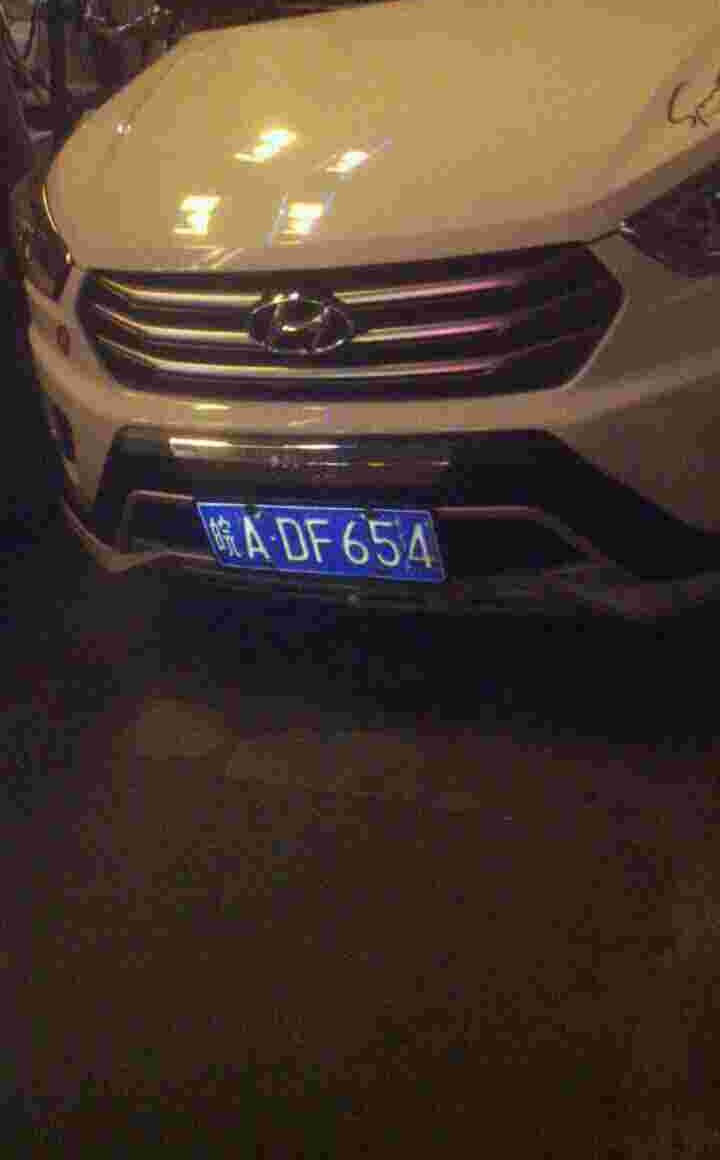license_plate: (203, 505, 439, 589)
